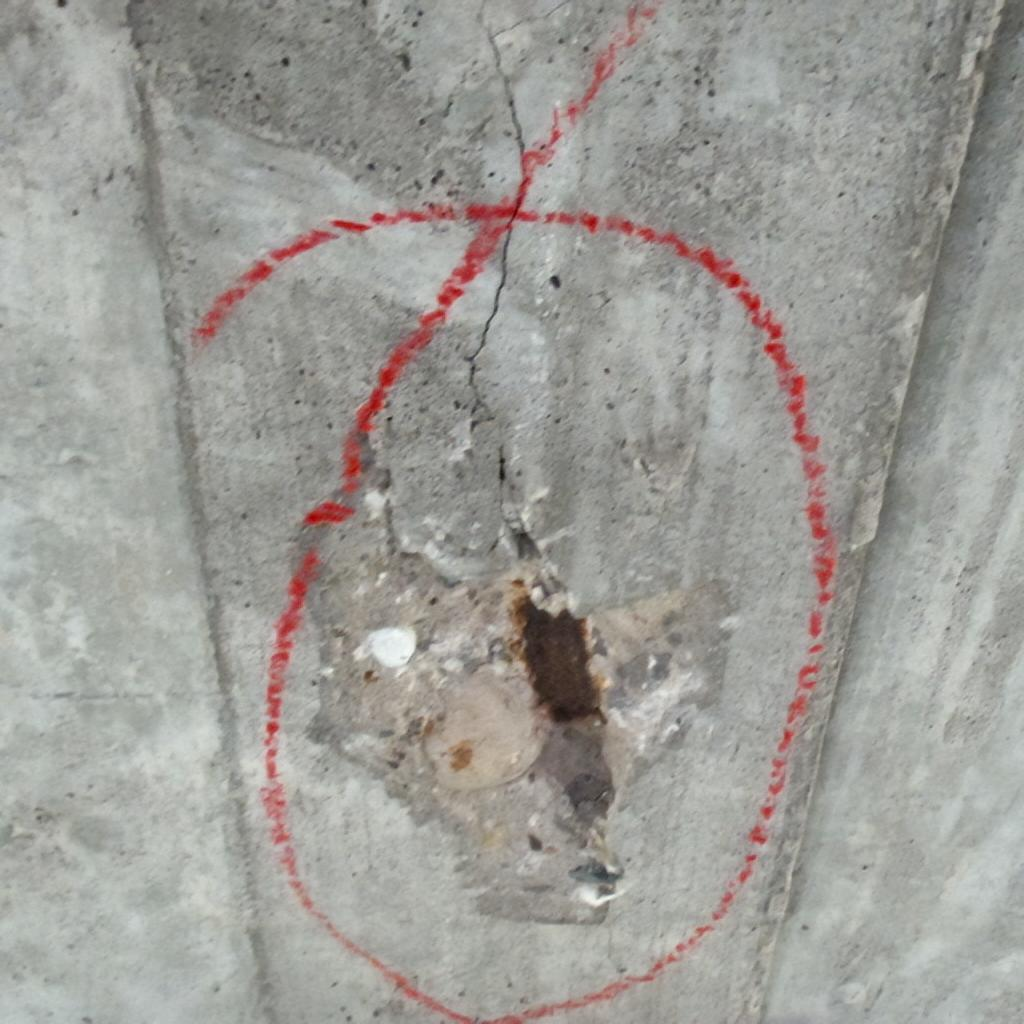exposed_rebar: (516, 598, 600, 722)
spalling: (310, 490, 728, 922)
